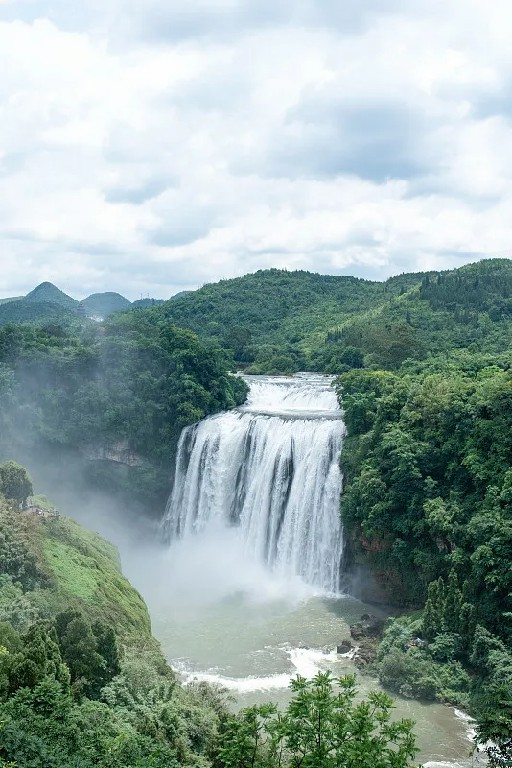Huangguoshu: (167, 374, 344, 597)
